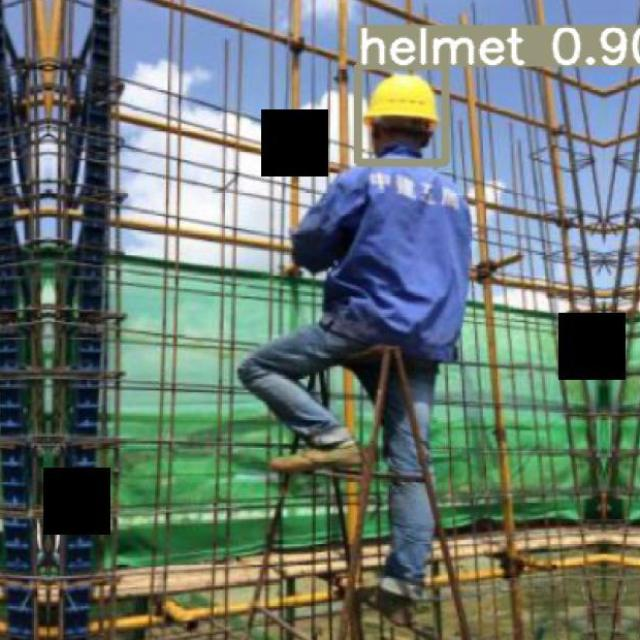helmet: (362, 73, 439, 126)
